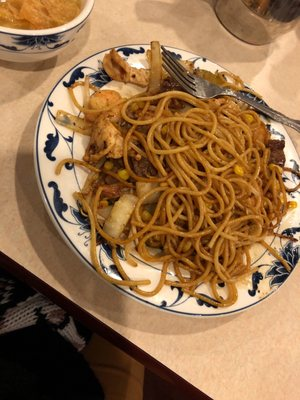salad: (160, 46, 300, 135)
sushi: (29, 17, 299, 354), (0, 0, 96, 71)
